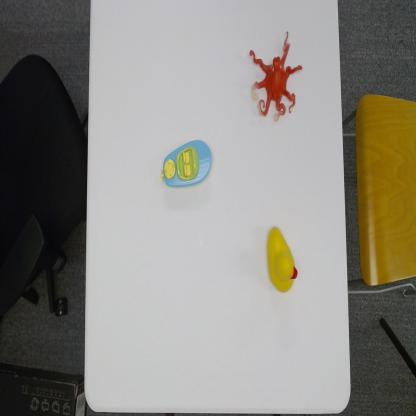Boat: (160, 138, 213, 190)
Duck: (266, 224, 298, 295)
Octopus: (248, 30, 304, 124)
